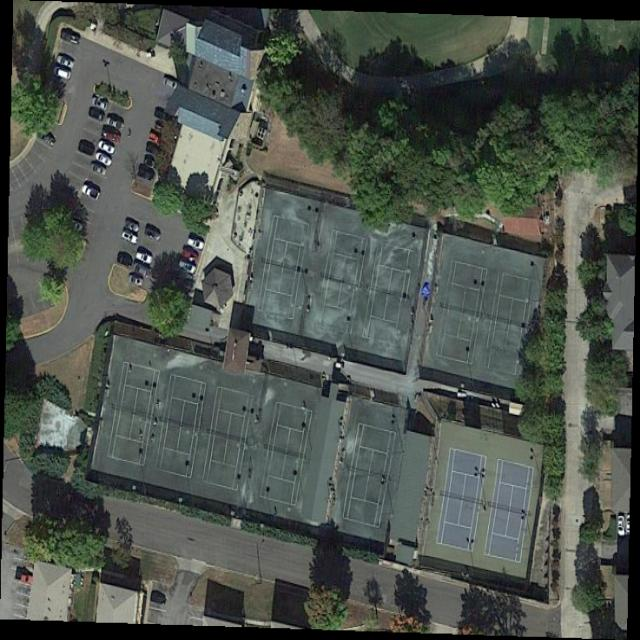small-vehicle: (154, 117, 175, 138), (82, 182, 102, 204), (36, 128, 58, 148), (89, 159, 110, 179), (154, 106, 175, 126), (95, 150, 115, 170), (60, 29, 82, 47), (97, 137, 117, 156), (148, 129, 168, 148), (177, 258, 198, 276), (144, 223, 162, 244), (133, 261, 152, 280), (121, 228, 140, 247), (162, 75, 180, 95), (53, 64, 73, 82), (56, 53, 76, 71), (107, 115, 126, 133), (88, 106, 107, 124), (77, 139, 96, 157), (186, 235, 206, 252), (181, 247, 200, 264), (102, 128, 122, 144), (91, 95, 109, 112), (116, 250, 133, 268), (146, 142, 165, 158), (135, 250, 154, 266), (125, 218, 142, 235), (144, 156, 162, 171), (21, 572, 38, 587), (128, 272, 145, 287), (138, 169, 156, 183), (151, 593, 168, 607), (617, 514, 627, 537), (89, 12, 100, 32)
